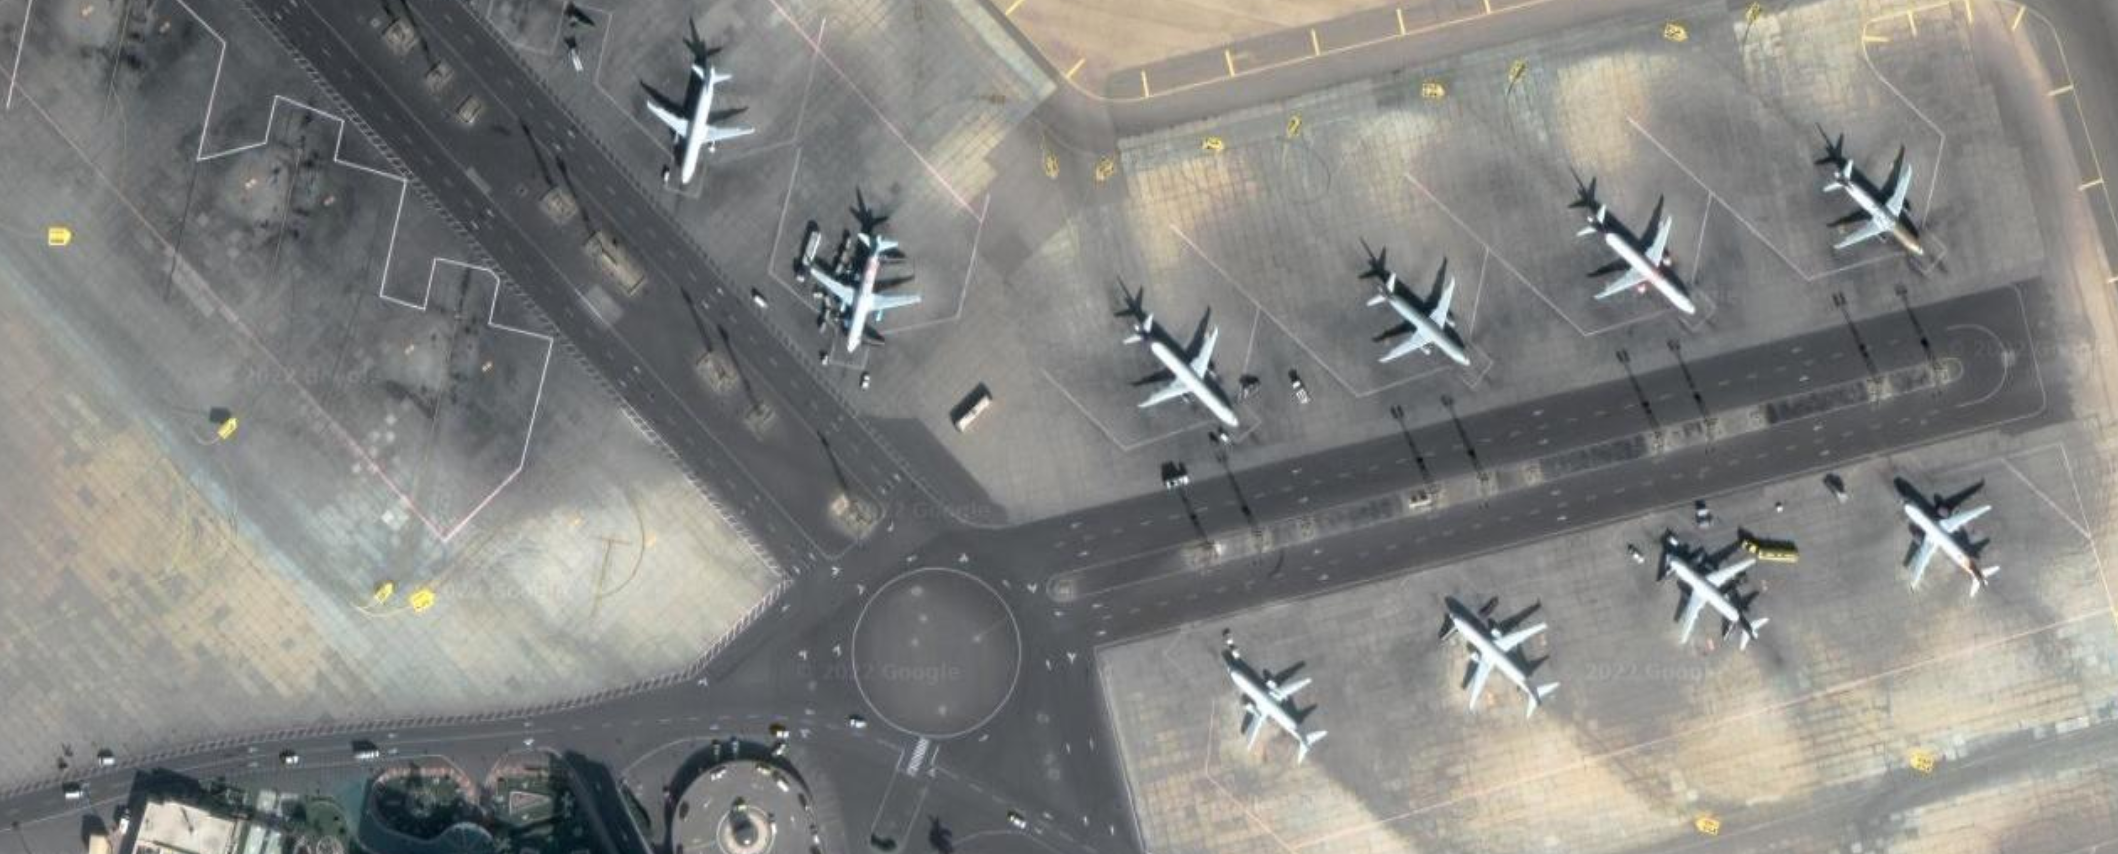car: (1160, 474, 1190, 489), (1008, 812, 1027, 828), (280, 754, 299, 766), (773, 728, 792, 739), (848, 719, 866, 728)
plane: (809, 228, 923, 355), (1120, 312, 1241, 428), (647, 64, 756, 191), (1576, 203, 1699, 315), (1447, 612, 1561, 718), (1894, 495, 2003, 599), (1222, 663, 1329, 763), (1824, 155, 1928, 257), (1366, 273, 1476, 368), (1664, 553, 1770, 651)
